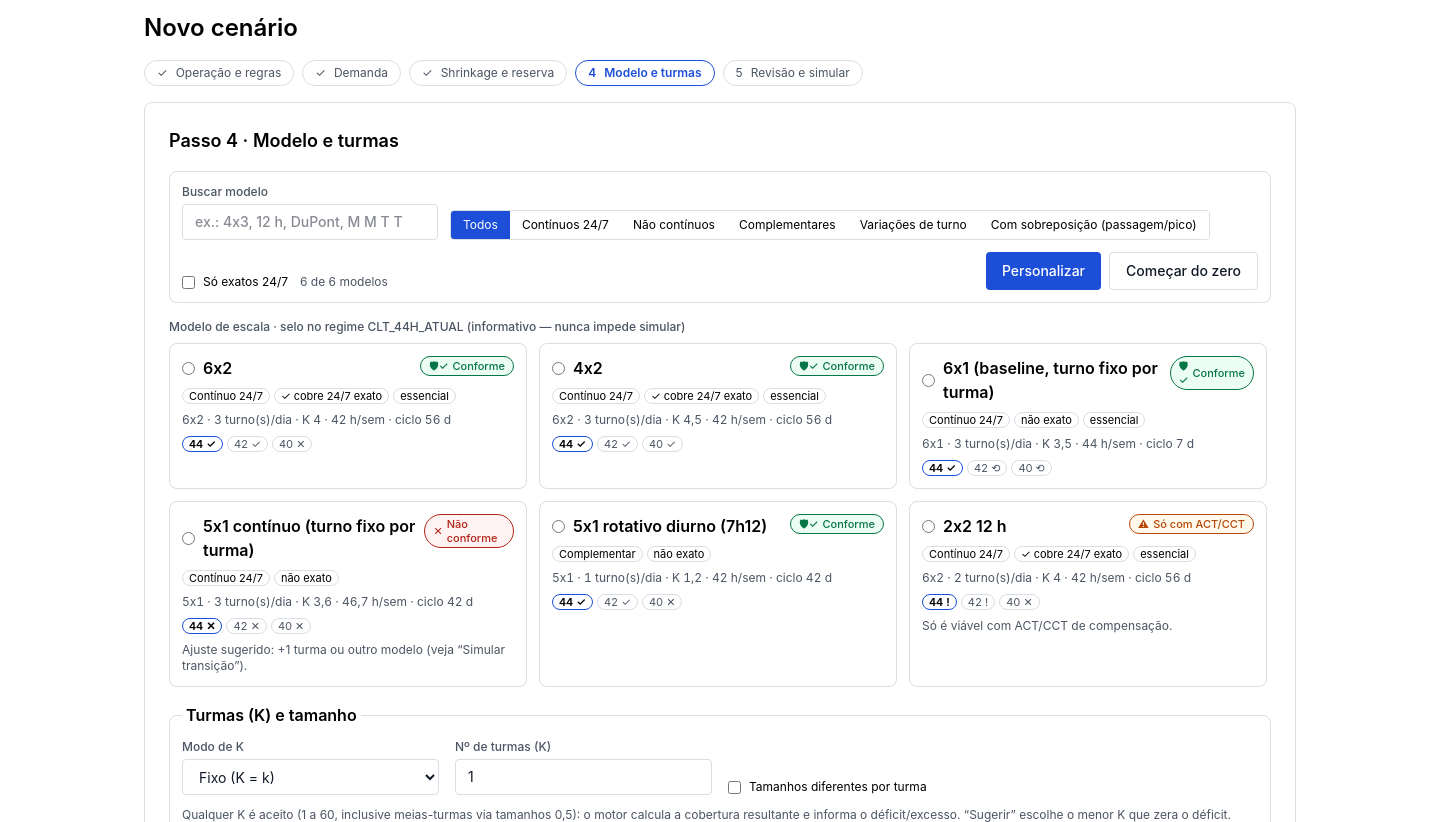
Test: Wizard de 5 passos (A26/A47) › passo 4: busca e filtro no catálogo completo; nenhum modelo pré-selecionado
The width and height of the screenshot is (1440, 822).
Check: the label with test id "modelo-4X2" is shown, box [539, 343, 897, 489]
Check: the text "6 de 6 modelos" is shown, box [300, 274, 388, 290]
In the search field labelled "Buscar modelo": (310, 222) [182, 204, 438, 240], type "12 h"
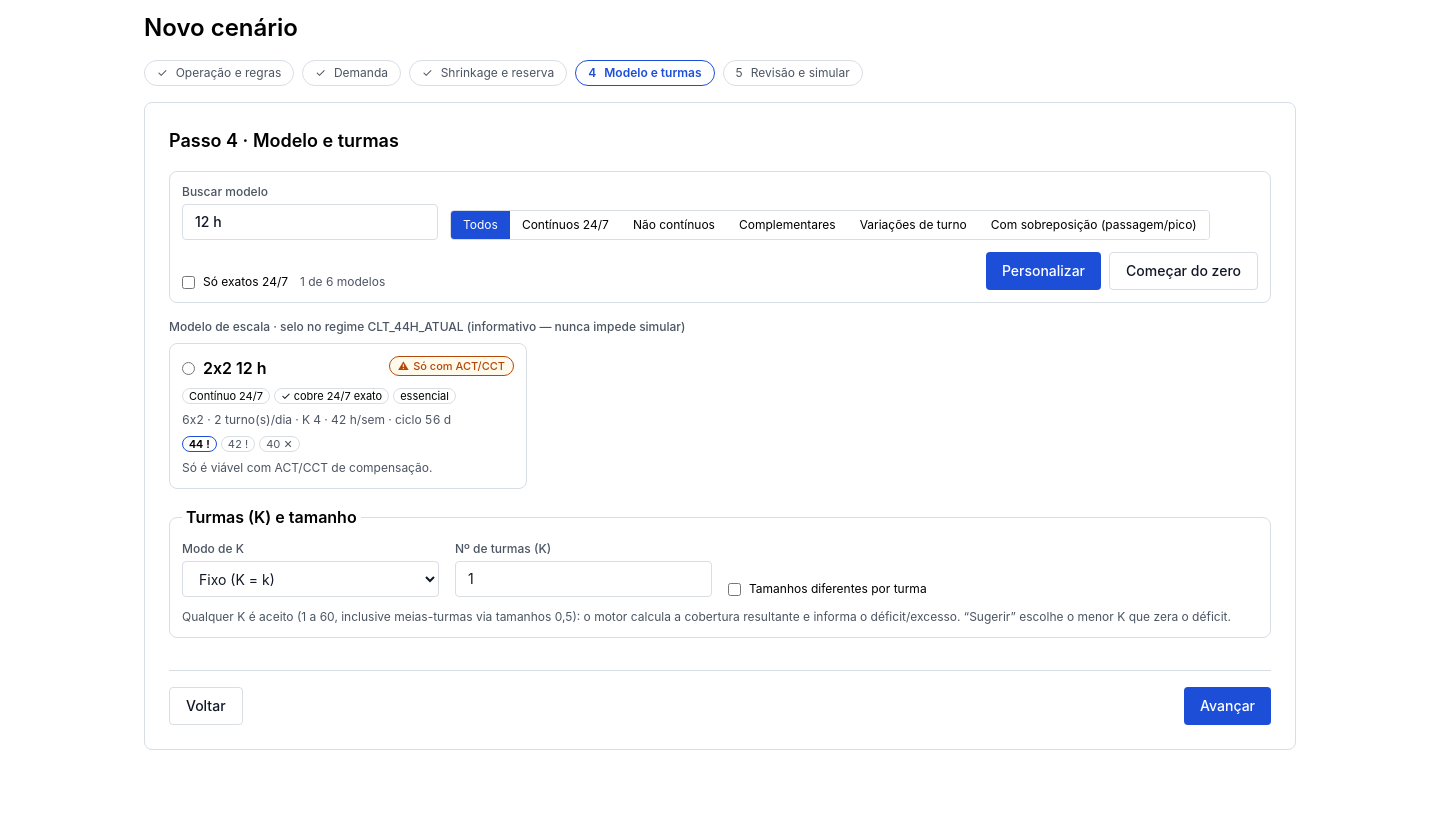
Check: the label with test id "modelo-2X2_12H" is shown, box [169, 343, 527, 489]
Check: the text "1 de 6 modelos" is shown, box [300, 274, 385, 290]
Clear the search field labelled "Buscar modelo": (310, 222) [182, 204, 438, 240]
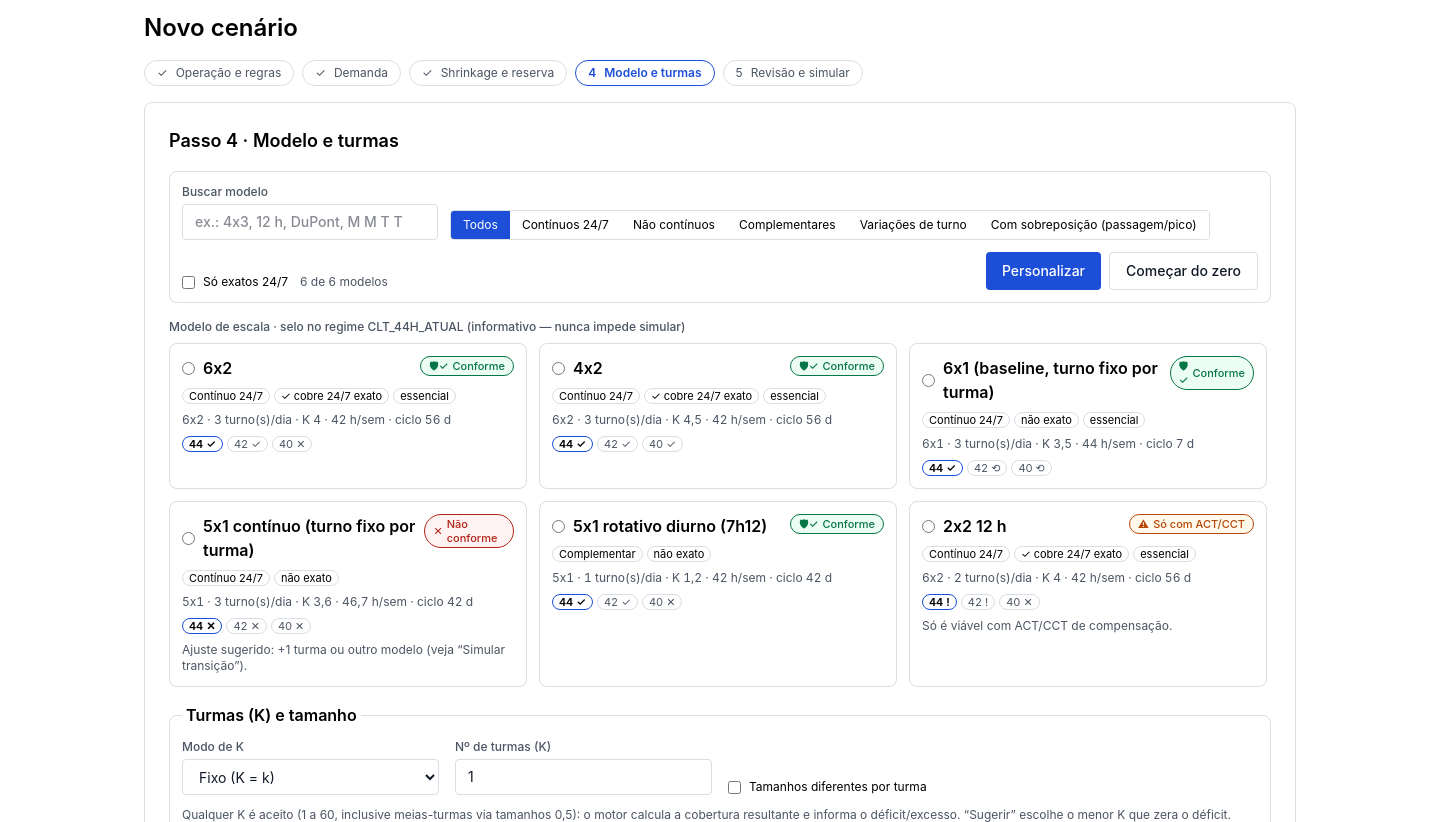
Click the checkbox labelled "Só exatos 24/7": (188, 282) [182, 276, 195, 288]
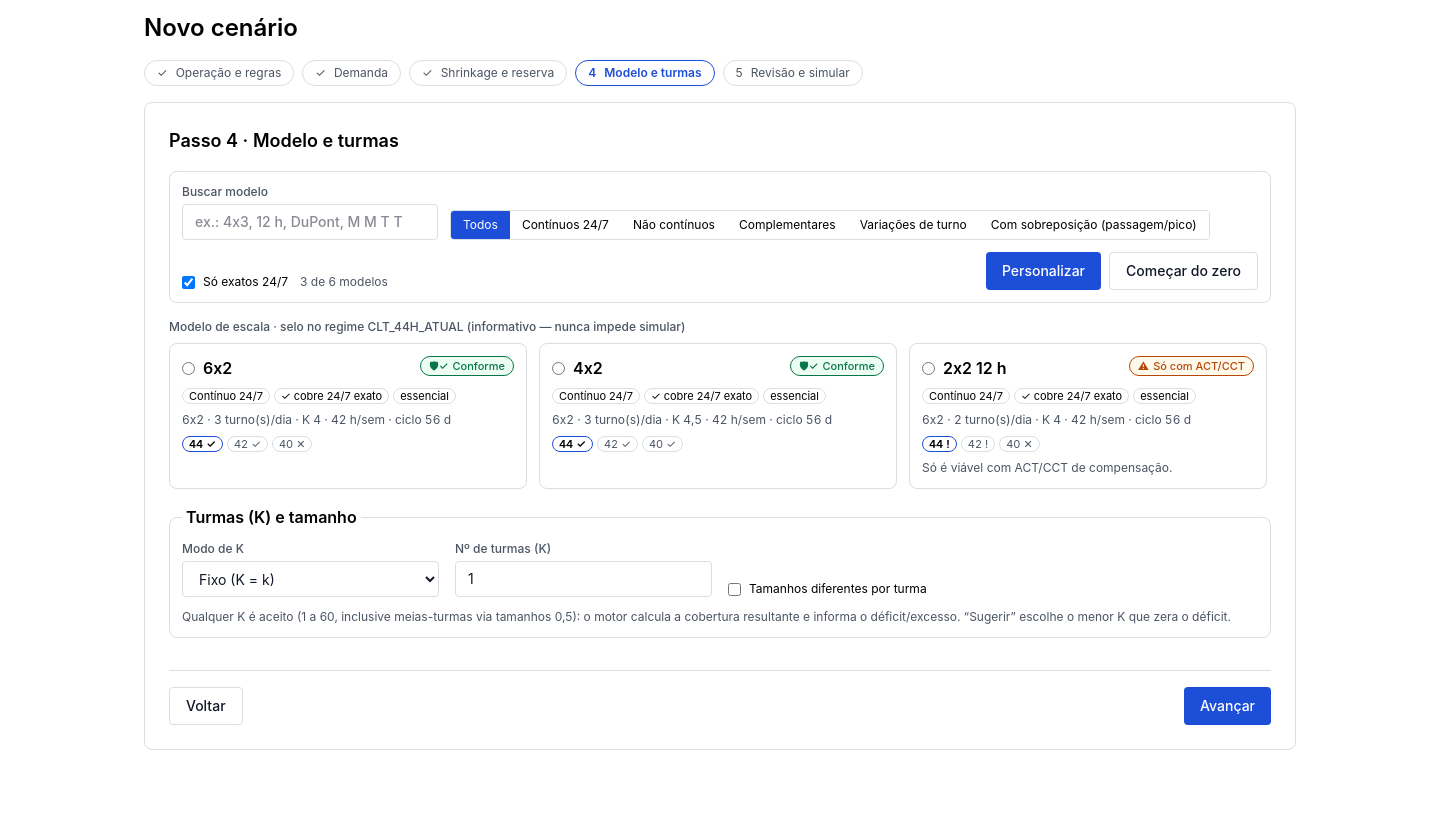
Check: the text "3 de 6 modelos" is shown, box [300, 274, 388, 290]
Click the button "Avançar": (1228, 706) [1184, 687, 1271, 725]
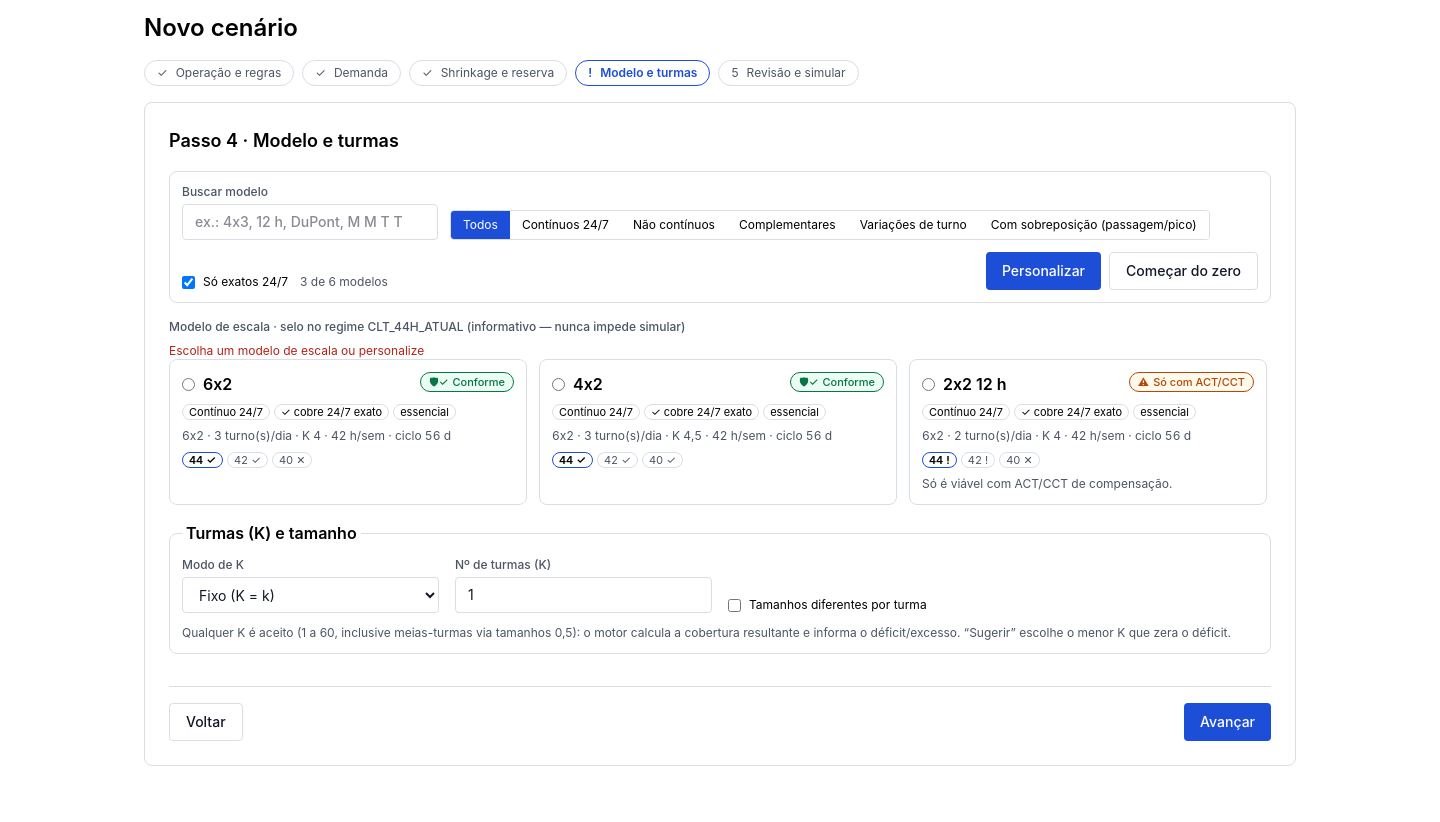
Check: the text "Escolha um modelo de escala ou personalize" is shown, box [169, 343, 424, 358]
